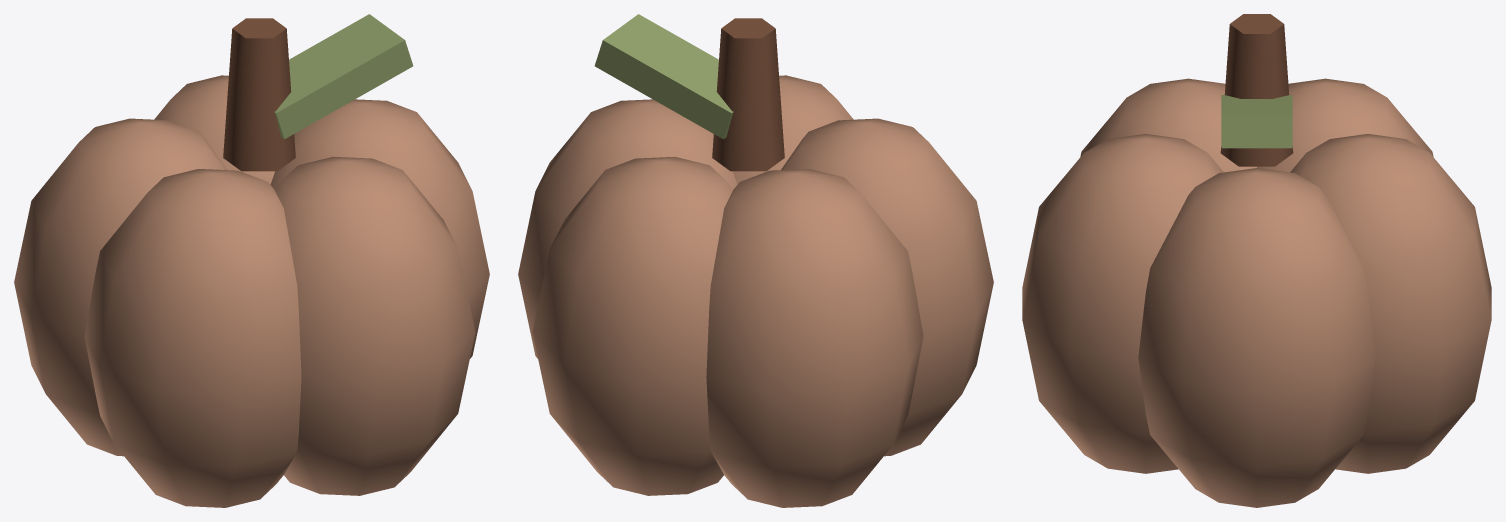
File: fixed-fruit.glb
The picture shows the model from 3 angles, left to right: view 1: azimuth 30°, elevation 25°; view 2: azimuth 150°, elevation 25°; view 3: azimuth 270°, elevation 25°; orthographic projection.
Visible parts, largest first — view 1: piece_whole; view 2: piece_whole; view 3: piece_whole.
Boxes of the visible parts, box(x1,y1,x2,y2) form: piece_whole: box(14, 14, 489, 507); piece_whole: box(518, 14, 993, 507); piece_whole: box(1022, 14, 1491, 507).
Size of what is drawn, in the model's own units: 0.3628 by 0.365 by 0.3614.
